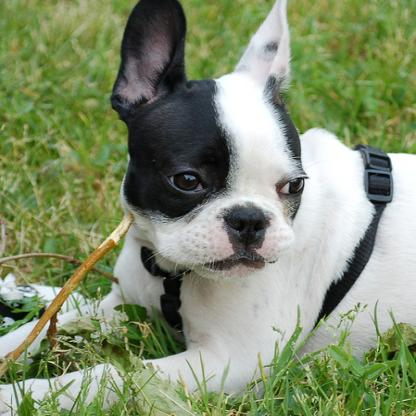French_bulldog: (0, 0, 413, 414)
